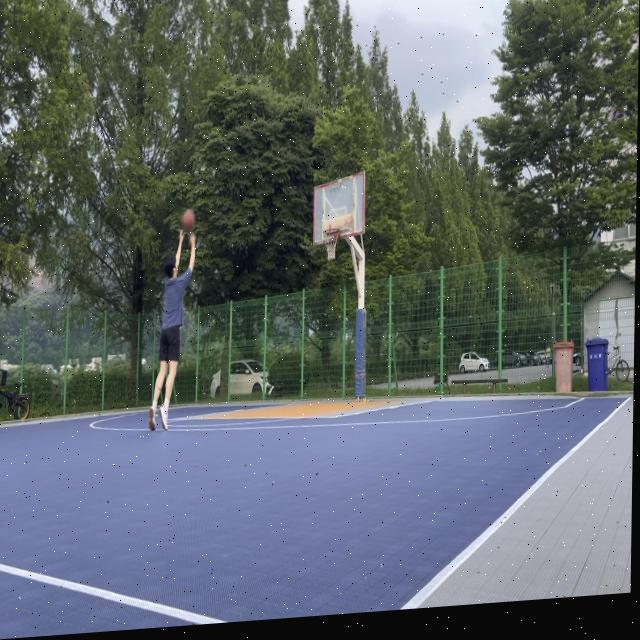basketball: (182, 207, 196, 233)
hoop: (322, 228, 340, 262)
